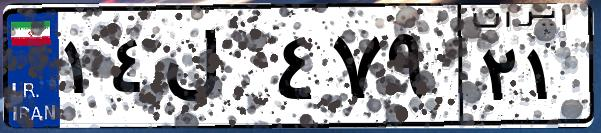1: (57, 26, 110, 100), (525, 38, 570, 115)
2: (475, 38, 525, 113)
4: (270, 28, 330, 110), (110, 28, 158, 98)
7: (330, 28, 385, 110)
9: (385, 28, 445, 110)
ل: (158, 20, 270, 120)
